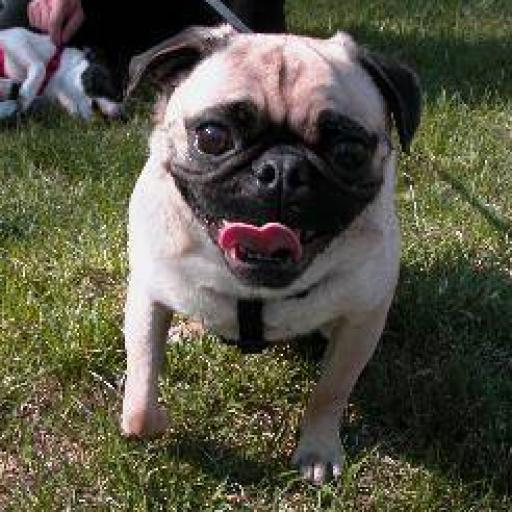dog_face: (138, 17, 409, 262)
